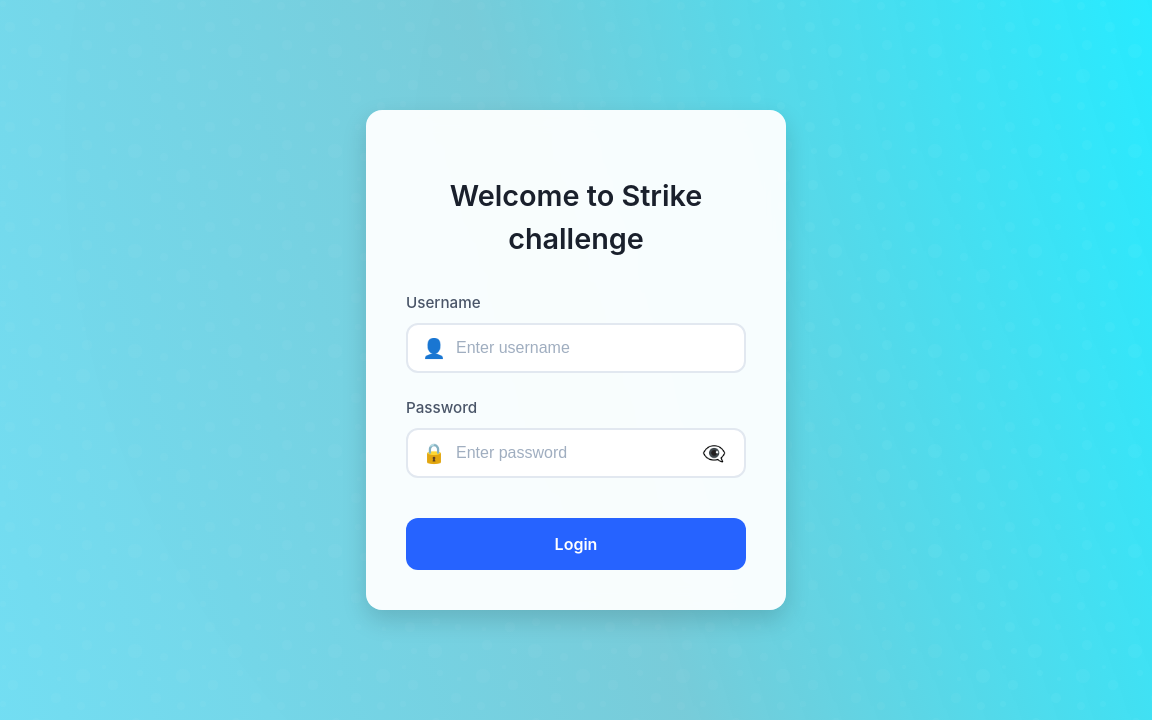
LoginForm › clears error when user starts typing
Type "wronguser" into the field with placeholder "Enter username" at (576, 348), box [406,323,746,373]
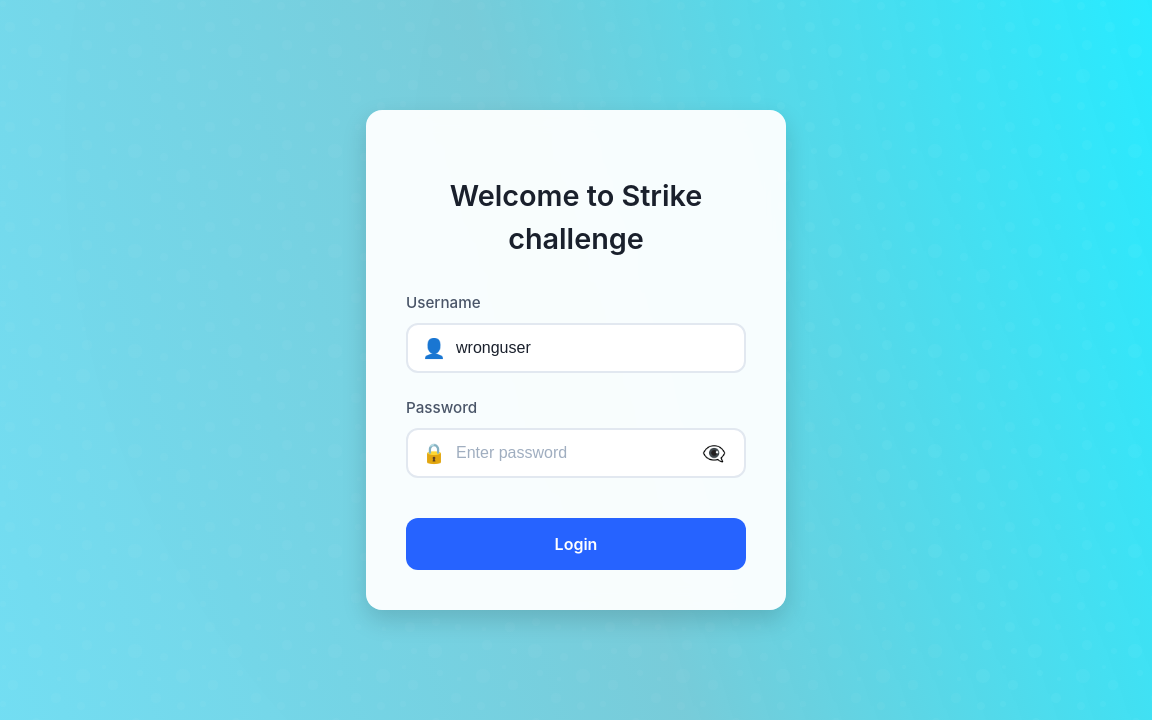
Type "wrongpass" into the password field with placeholder "Enter password" at (576, 453), box [406,428,746,478]
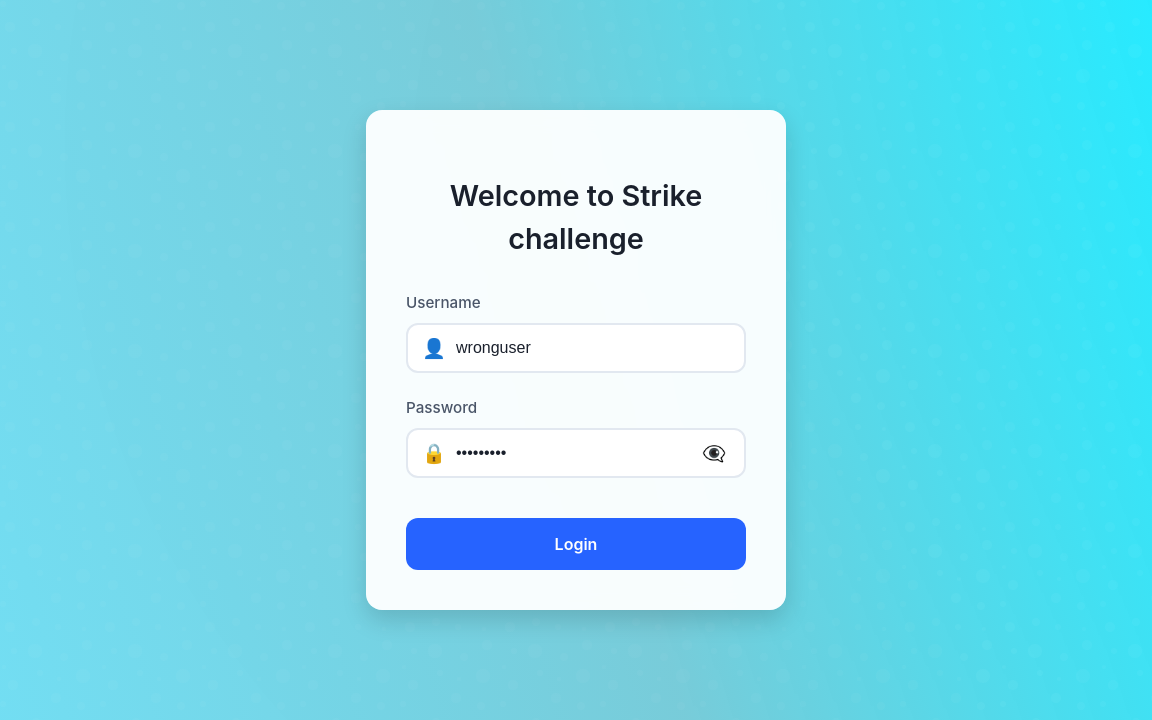
Click the button "Login" at (576, 544), box [406,518,746,570]
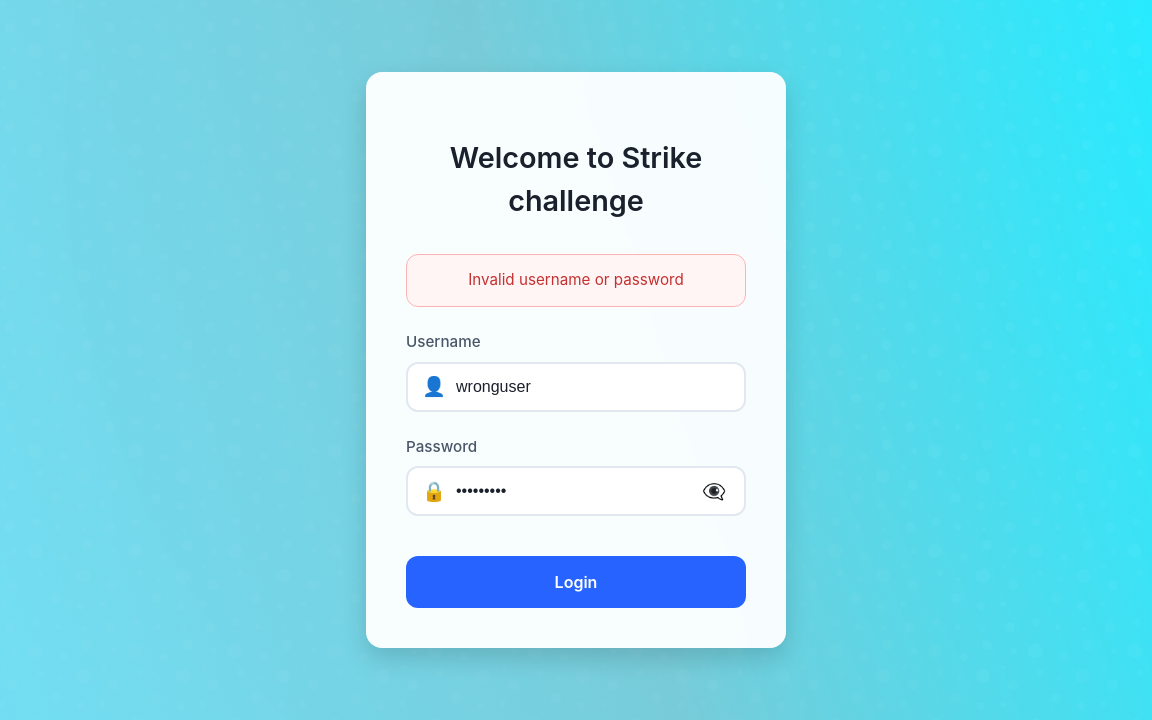
Expected: the text "Invalid username or password" is shown, [406,254,746,307]
Replace the text in the field with placeholder "Enter username" with "newuser" at (576, 386), box [406,362,746,412]
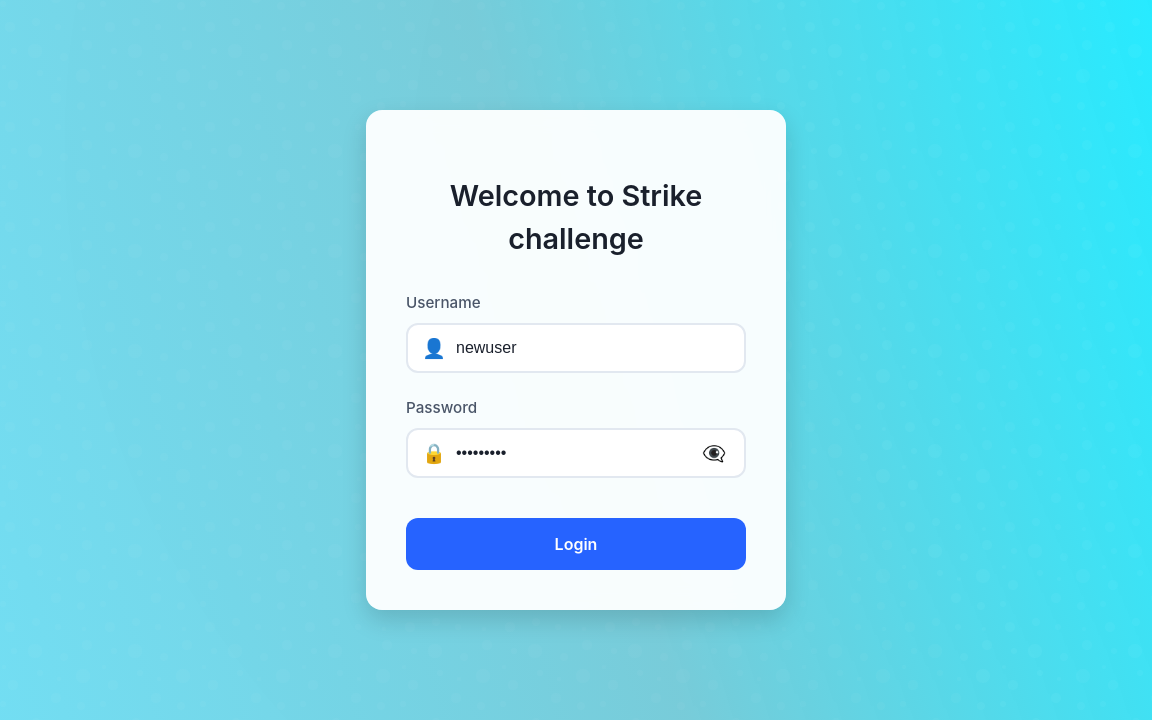
Expected: the text "Invalid username or password" is gone
